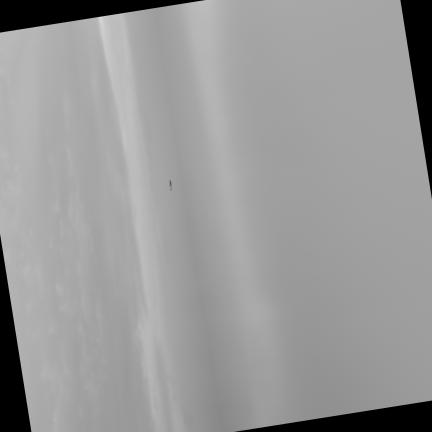Shahed: (168, 179, 173, 190)
